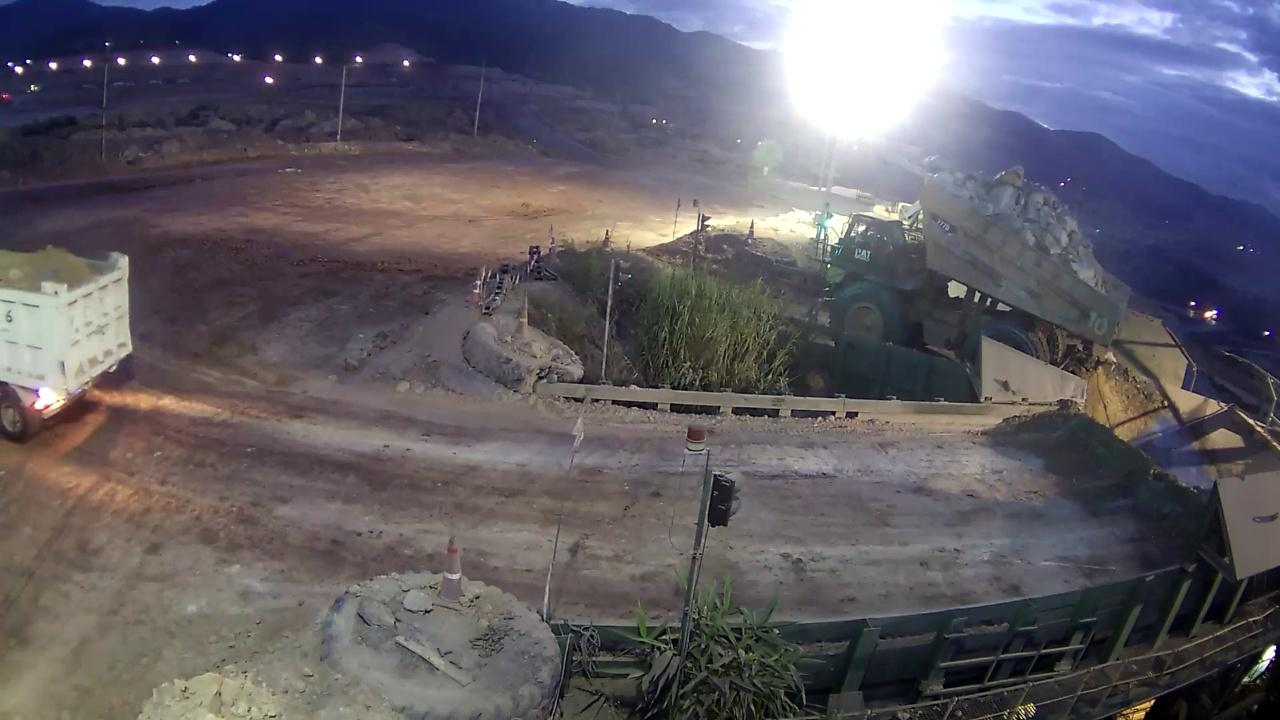dumping_soil: (823, 149, 1128, 388)
full_load: (966, 159, 1083, 250)
tail_number: (1084, 302, 1116, 343)
